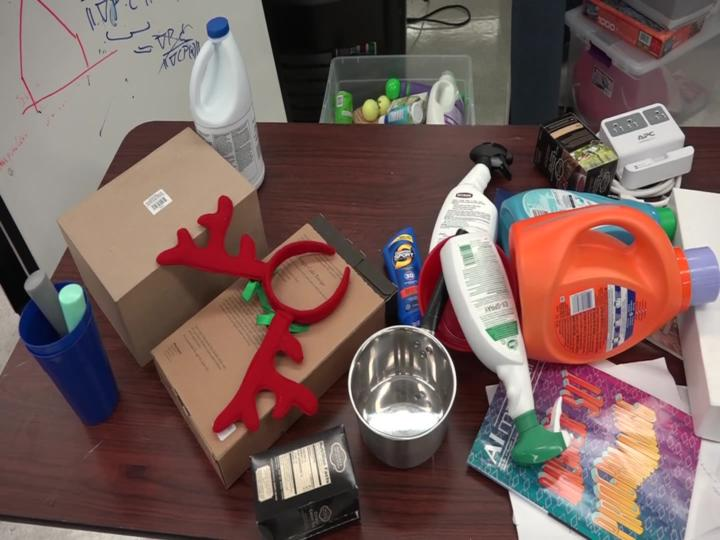tide: (487, 187, 719, 374)
